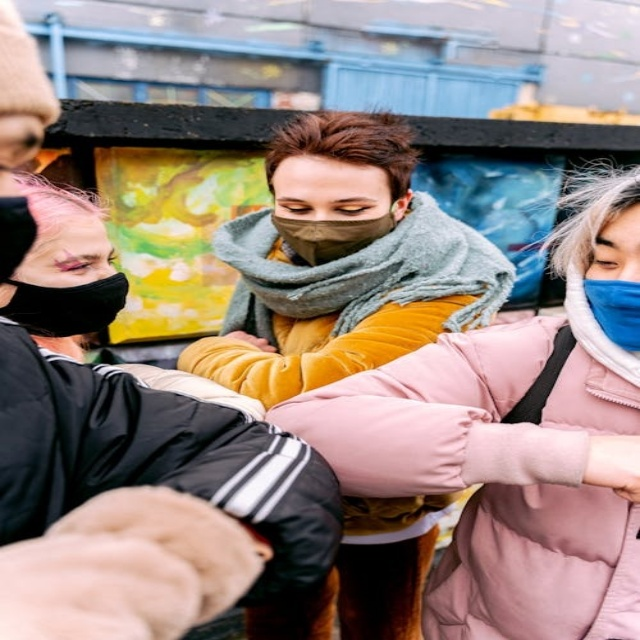Mascara: (1, 270, 132, 337), (270, 204, 400, 266), (581, 277, 639, 353)
Sin_gafas: (266, 187, 396, 216), (20, 241, 124, 276), (584, 232, 634, 271)
